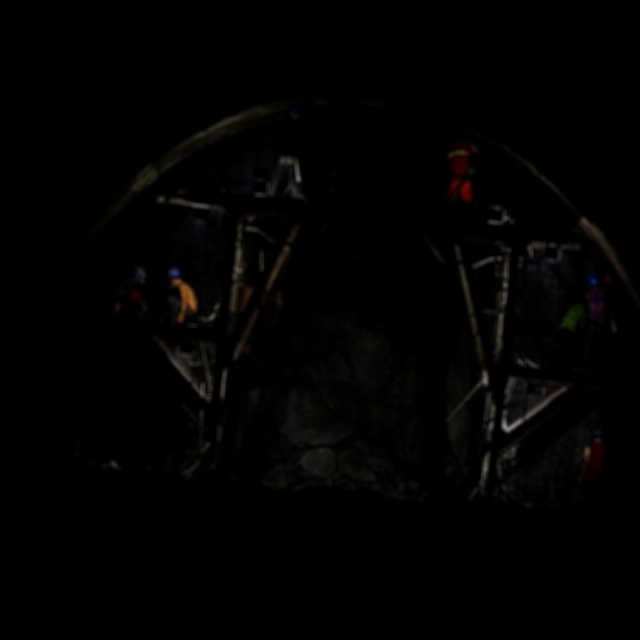Con_Chaleco: (444, 136, 475, 174)
Sin_Chaleco: (279, 118, 304, 158)
